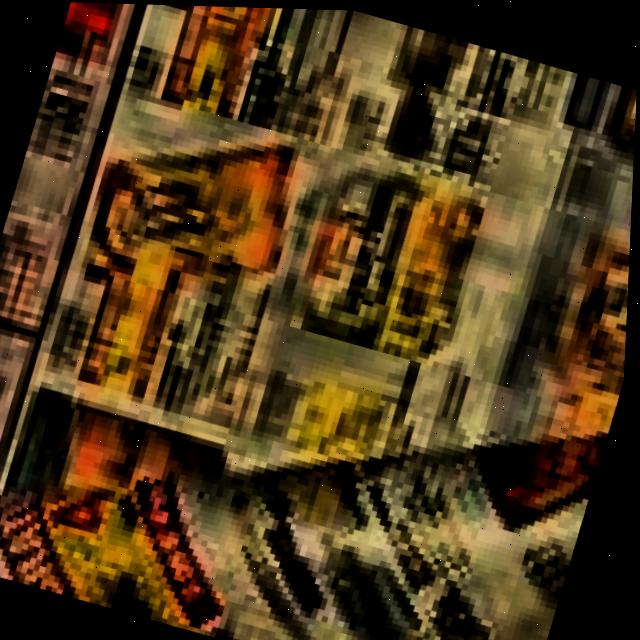paper: (0, 2, 638, 640)
